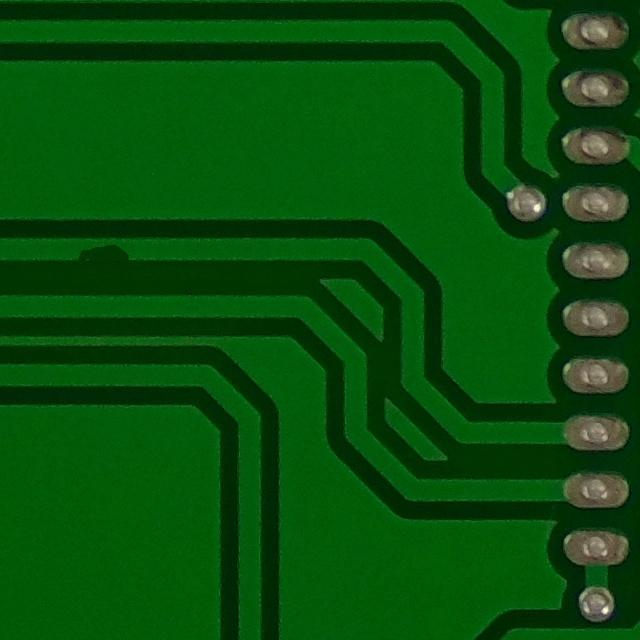mouse_bite: (52, 224, 145, 276)
